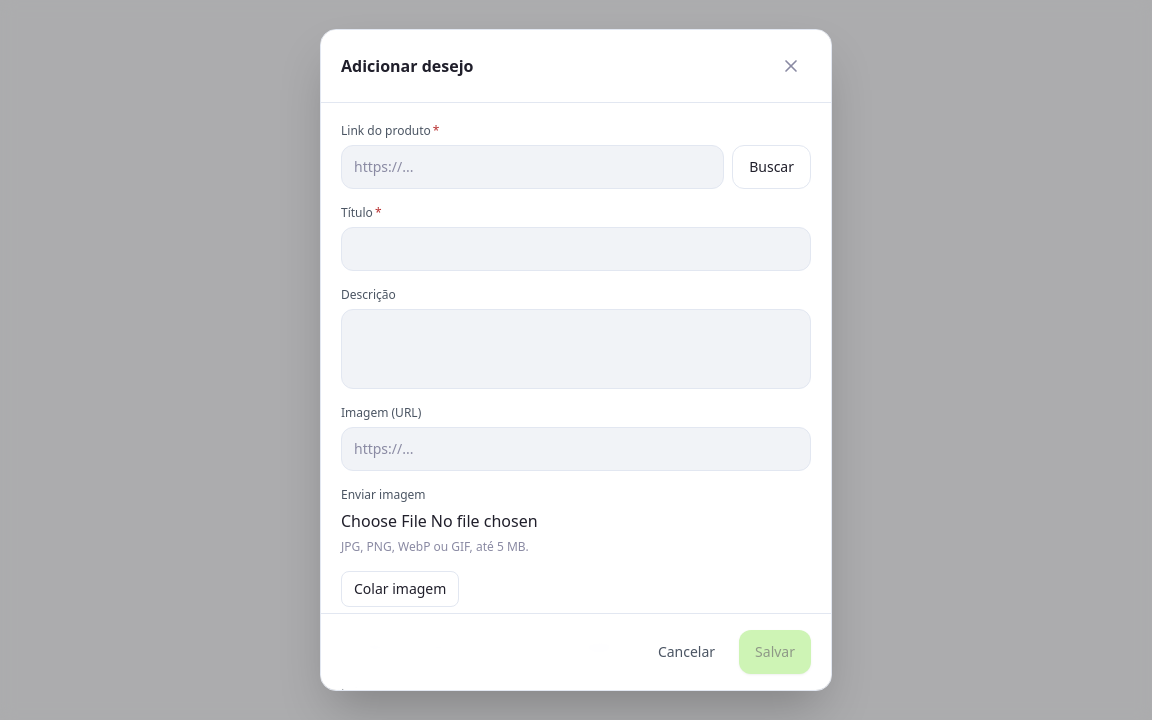
busca automaticamente os dados após informar o link
The width and height of the screenshot is (1152, 720).
Type "https://loja.example/cadeira" into the field labelled "Link do produto*" at (533, 167), box [341, 145, 724, 189]
(page scrolled)
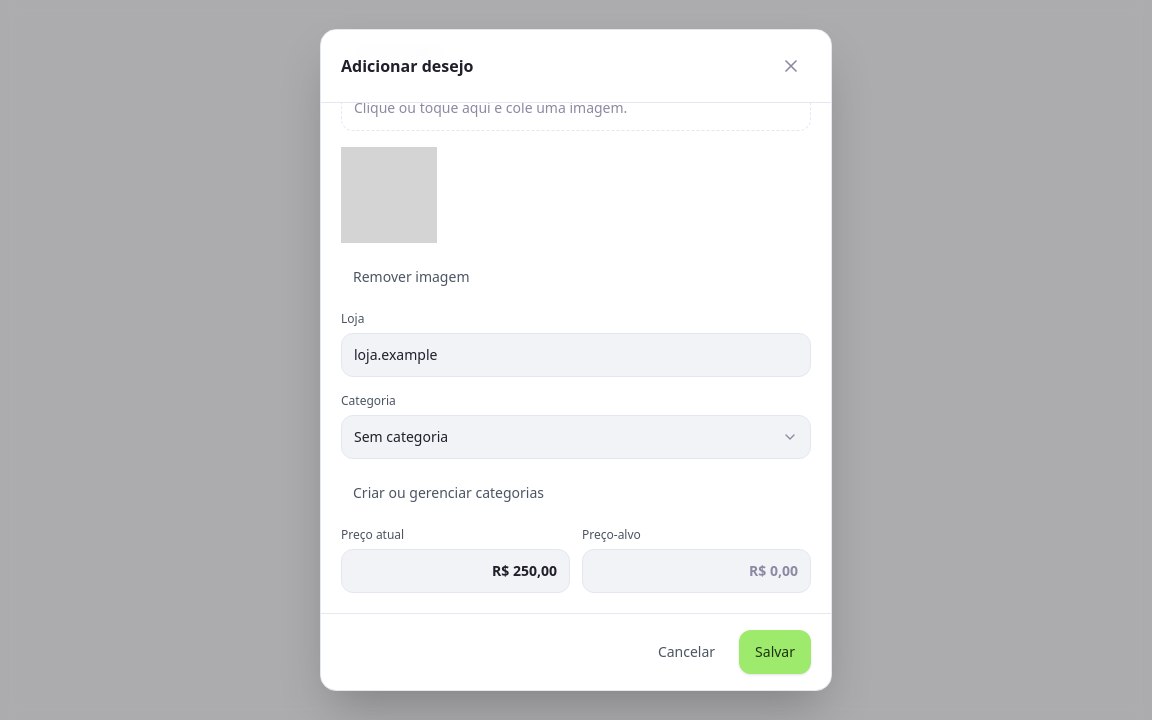
Check: the field labelled "Preço atual" holds "R$ 250,00", box [341, 549, 570, 593]
